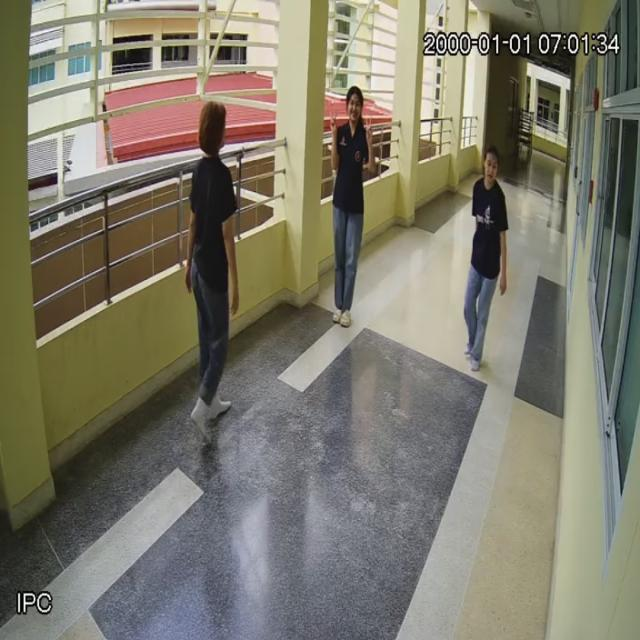normal: (181, 98, 236, 452), (454, 151, 513, 379), (328, 80, 374, 341)
